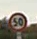limite 50: (7, 10, 27, 31)
